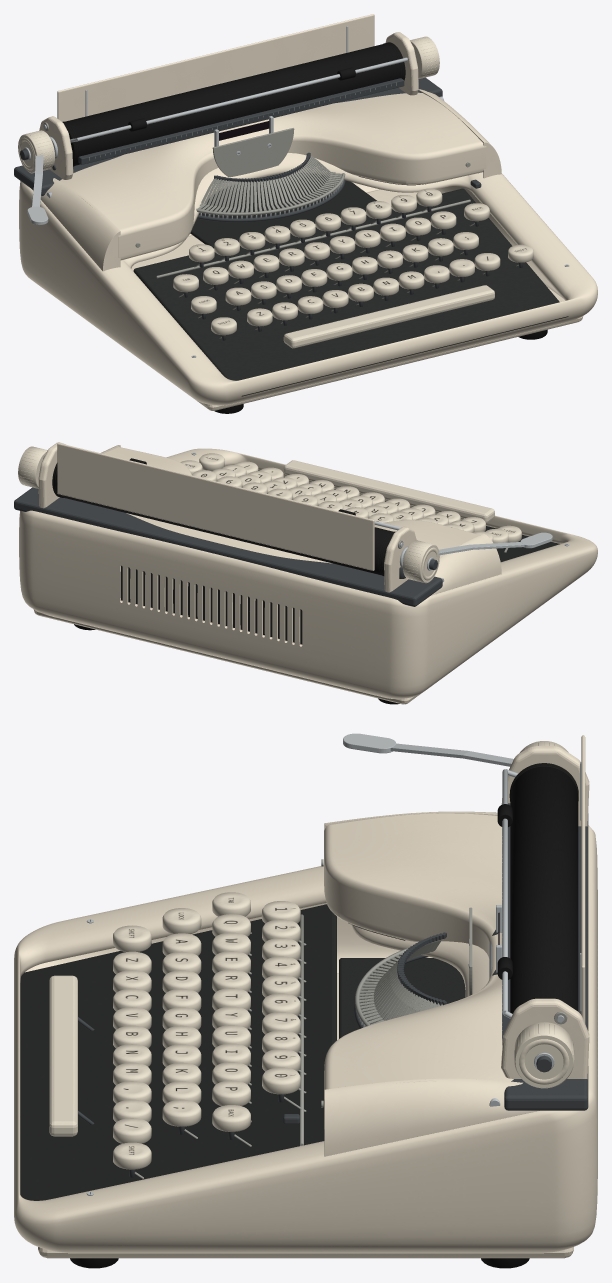
The model's file is typewriter-cream.glb.
The picture shows the model from 3 angles, top to bottom: view 1: azimuth 30°, elevation 25°; view 2: azimuth 150°, elevation 25°; view 3: azimuth 270°, elevation 25°; orthographic projection. The views are drawn at different scales.
Visible parts, largest first — view 1: Body_Geometry, Keyboard_Geometry, Platen_Geometry, PaperGuide_Geometry, Mechanics_Geometry, Carriage_Geometry, Typebars_Geometry, Spacebar_Geometry, PaperBail_Geometry, ReturnLever_Geometry; view 2: Body_Geometry, PaperGuide_Geometry, Carriage_Geometry, Platen_Geometry, Spacebar_Geometry, ReturnLever_Geometry, Keyboard_Geometry, Cap_Key_ShiftRight; view 3: Body_Geometry, Keyboard_Geometry, Platen_Geometry, Carriage_Geometry, Spacebar_Geometry, Mechanics_Geometry, Typebars_Geometry, PaperBail_Geometry, ReturnLever_Geometry, PaperGuide_Geometry, Cap_Key_Symbol_59, Cap_Key_0 (+43 smaller).
Part boxes in pixels (x1,y1,x2,y2): Body_Geometry: (19, 89, 597, 413); Keyboard_Geometry: (133, 179, 568, 396); Platen_Geometry: (18, 36, 439, 173); PaperGuide_Geometry: (57, 14, 374, 121); Mechanics_Geometry: (190, 116, 376, 248); Carriage_Geometry: (14, 32, 443, 197); Typebars_Geometry: (196, 152, 345, 222); Spacebar_Geometry: (283, 285, 494, 348); PaperBail_Geometry: (70, 57, 408, 142); ReturnLever_Geometry: (27, 155, 48, 225); Body_Geometry: (19, 445, 597, 704); PaperGuide_Geometry: (57, 443, 374, 570); Carriage_Geometry: (14, 442, 444, 606); Platen_Geometry: (18, 446, 439, 583); Spacebar_Geometry: (283, 460, 494, 523); ReturnLever_Geometry: (399, 532, 552, 578); Keyboard_Geometry: (258, 470, 559, 561); Cap_Key_ShiftRight: (199, 453, 224, 470); Body_Geometry: (14, 811, 597, 1268); Keyboard_Geometry: (20, 904, 336, 1200); Platen_Geometry: (509, 741, 578, 1088); Carriage_Geometry: (489, 746, 589, 1110); Spacebar_Geometry: (49, 975, 94, 1136); Mechanics_Geometry: (339, 905, 502, 1038); Typebars_Geometry: (354, 932, 446, 1028); PaperBail_Geometry: (497, 769, 518, 1018); ReturnLever_Geometry: (343, 733, 513, 766); PaperGuide_Geometry: (580, 735, 585, 1023); Cap_Key_Symbol_59: (162, 1099, 201, 1126); Cap_Key_0: (262, 1067, 300, 1094).
Size of the model in its own units: 0.3928 by 0.1595 by 0.2843.
2 materials, 2 textured.
